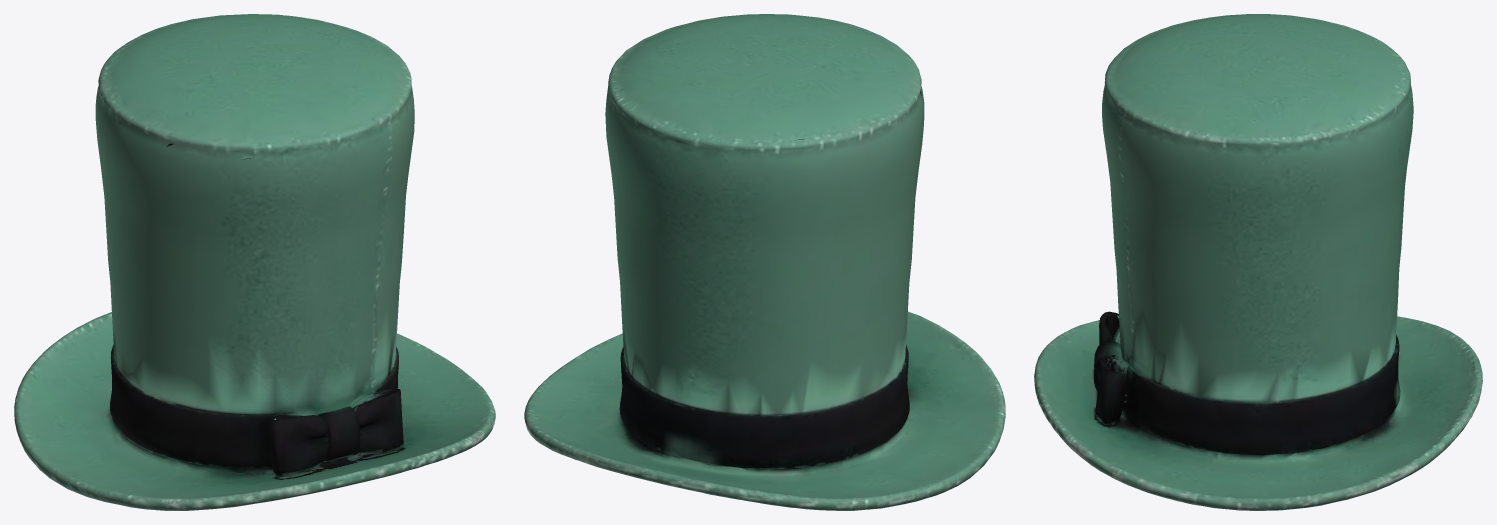
The model's file is tophat.glb.
3 renders of one model, left to right at view 1: azimuth 30°, elevation 25°; view 2: azimuth 150°, elevation 25°; view 3: azimuth 270°, elevation 25°, orthographic. The views are drawn at different scales.
Parts seen in each view (by area): view 1: node_0; view 2: node_0; view 3: node_0.
Part boxes in pixels (bbox=[...]): node_0: bbox=[14, 14, 495, 510]; node_0: bbox=[524, 14, 1005, 510]; node_0: bbox=[1034, 14, 1482, 510].
Size of the model in its own units: 0.5 by 0.4308 by 0.4854.
1 material, 1 textured.
